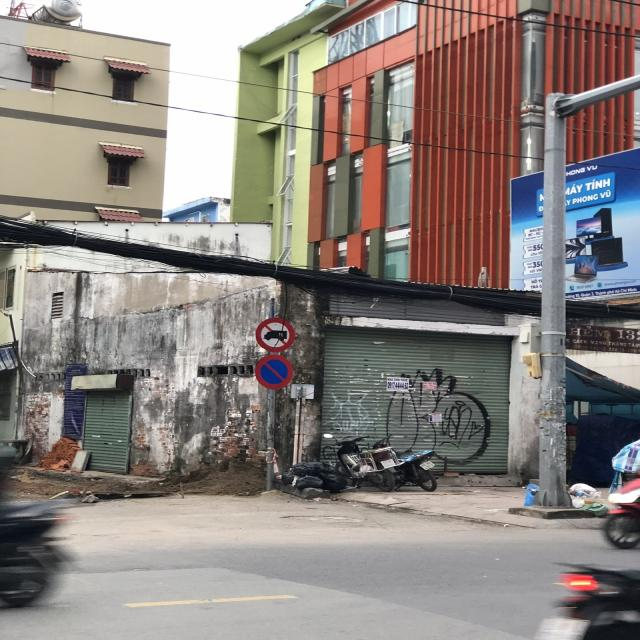Bien bao cam do xe: (252, 354, 296, 391)
Bien bao cam xe oto tai: (253, 314, 296, 352)
